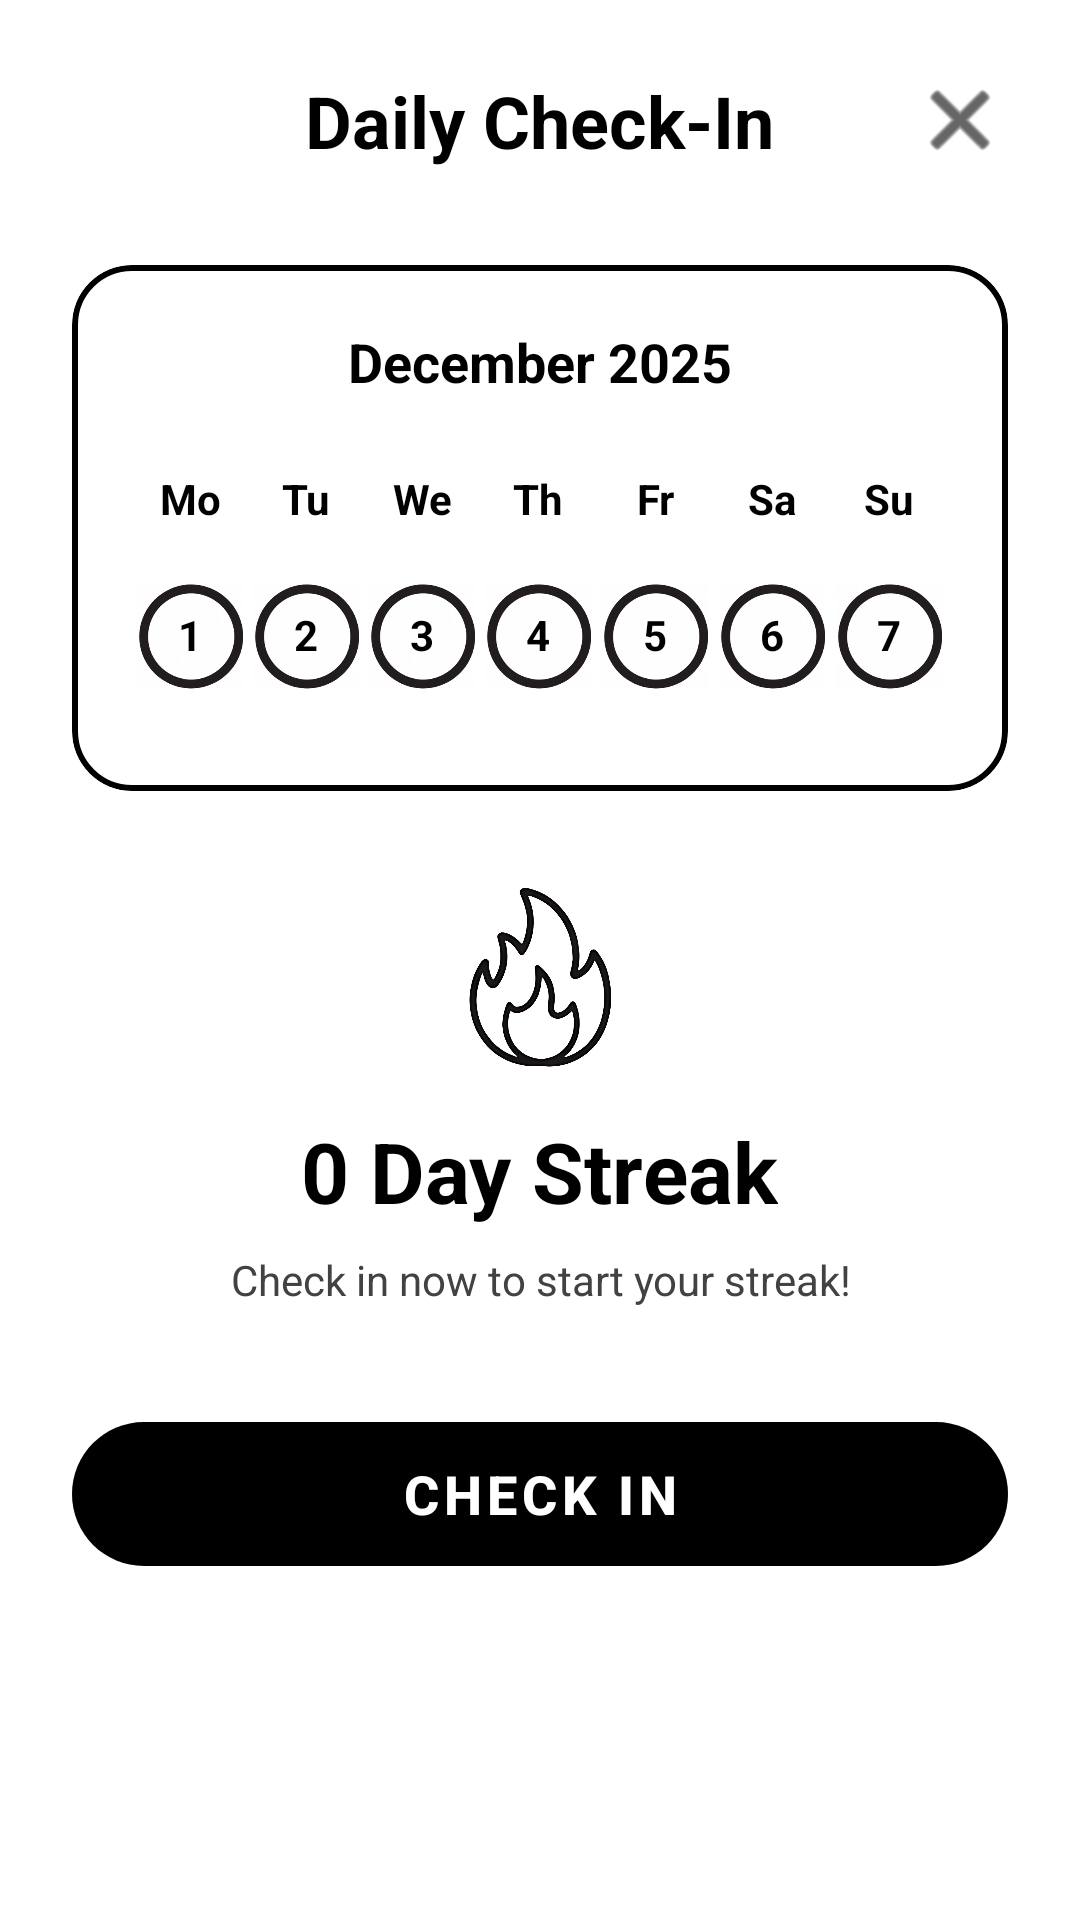

Locate icon controls on the screen. Image size 1080 × 1920, boxes as (x1, y1, x2, y2).
calendar circle: (139, 584, 243, 689), (255, 584, 359, 689), (371, 584, 475, 689), (487, 584, 591, 689), (604, 584, 708, 689), (721, 584, 825, 689), (838, 584, 942, 689)
close clear cancel: (930, 90, 990, 150)
streak fire: (469, 888, 611, 1067)
